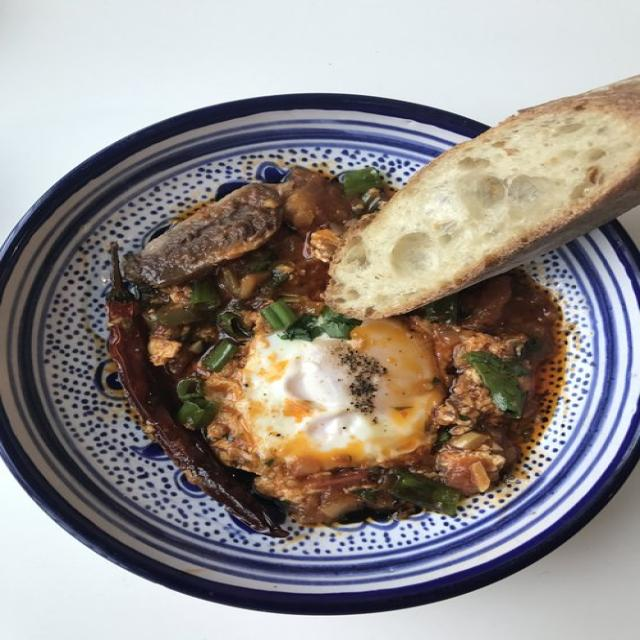Chakchouka: (107, 166, 559, 536)
